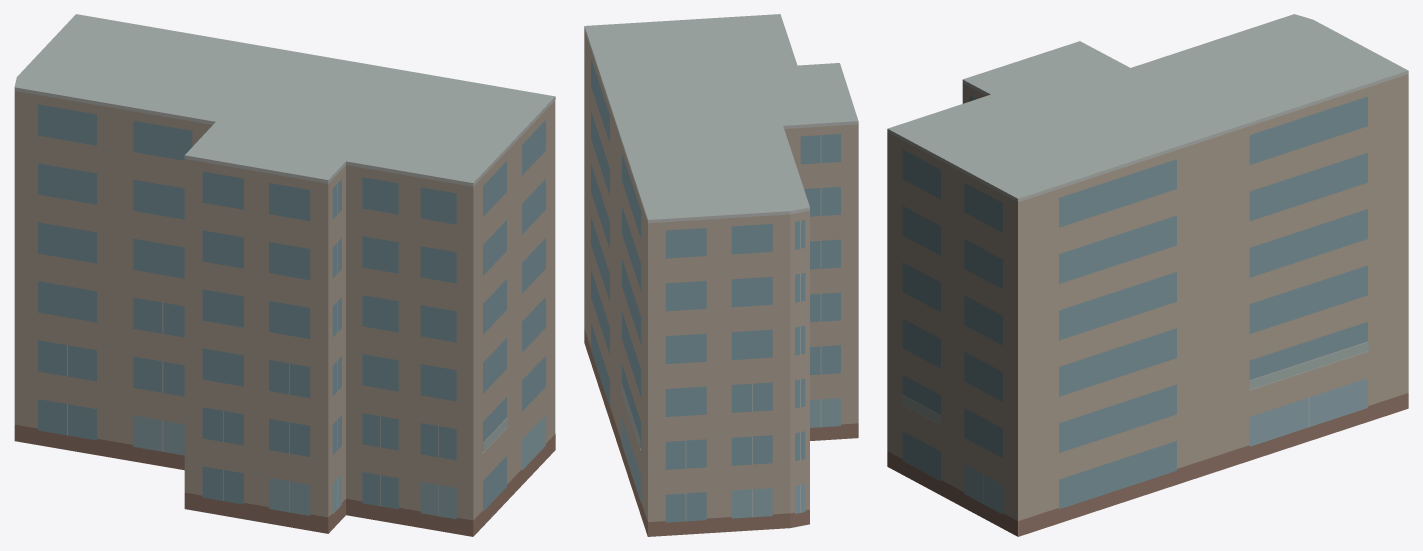
Rendered from survey-upis-33011402.glb.
3 views of the same model, side by side, from view 1: azimuth 30°, elevation 25°; view 2: azimuth 150°, elevation 25°; view 3: azimuth 270°, elevation 25° (orthographic). The views are drawn at different scales.
Parts seen in each view (by area): view 1: survey-upis-33011402.tmp; view 2: survey-upis-33011402.tmp; view 3: survey-upis-33011402.tmp.
Part boxes in pixels (x1=…): survey-upis-33011402.tmp: x1=14, y1=14, x2=555, y2=536; survey-upis-33011402.tmp: x1=584, y1=14, x2=858, y2=536; survey-upis-33011402.tmp: x1=887, y1=14, x2=1408, y2=536.
Bounding box in the file's own units: 27.86 × 23.75 × 33.19.
